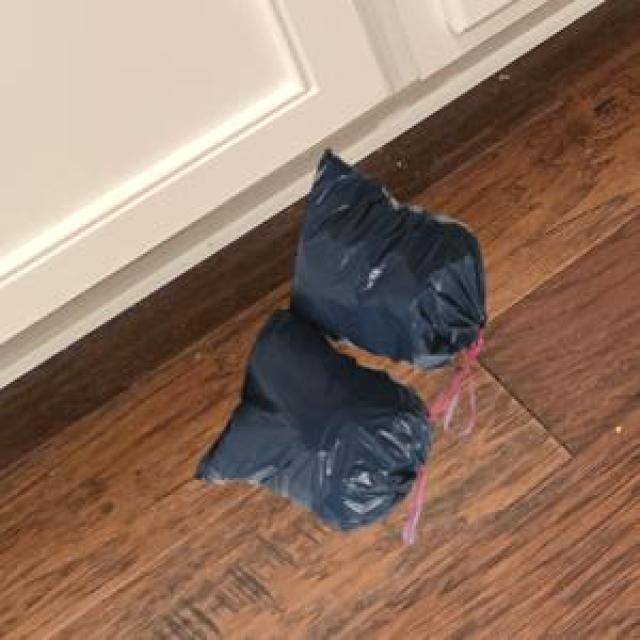Trashbag: (192, 308, 436, 535), (286, 146, 484, 374)
